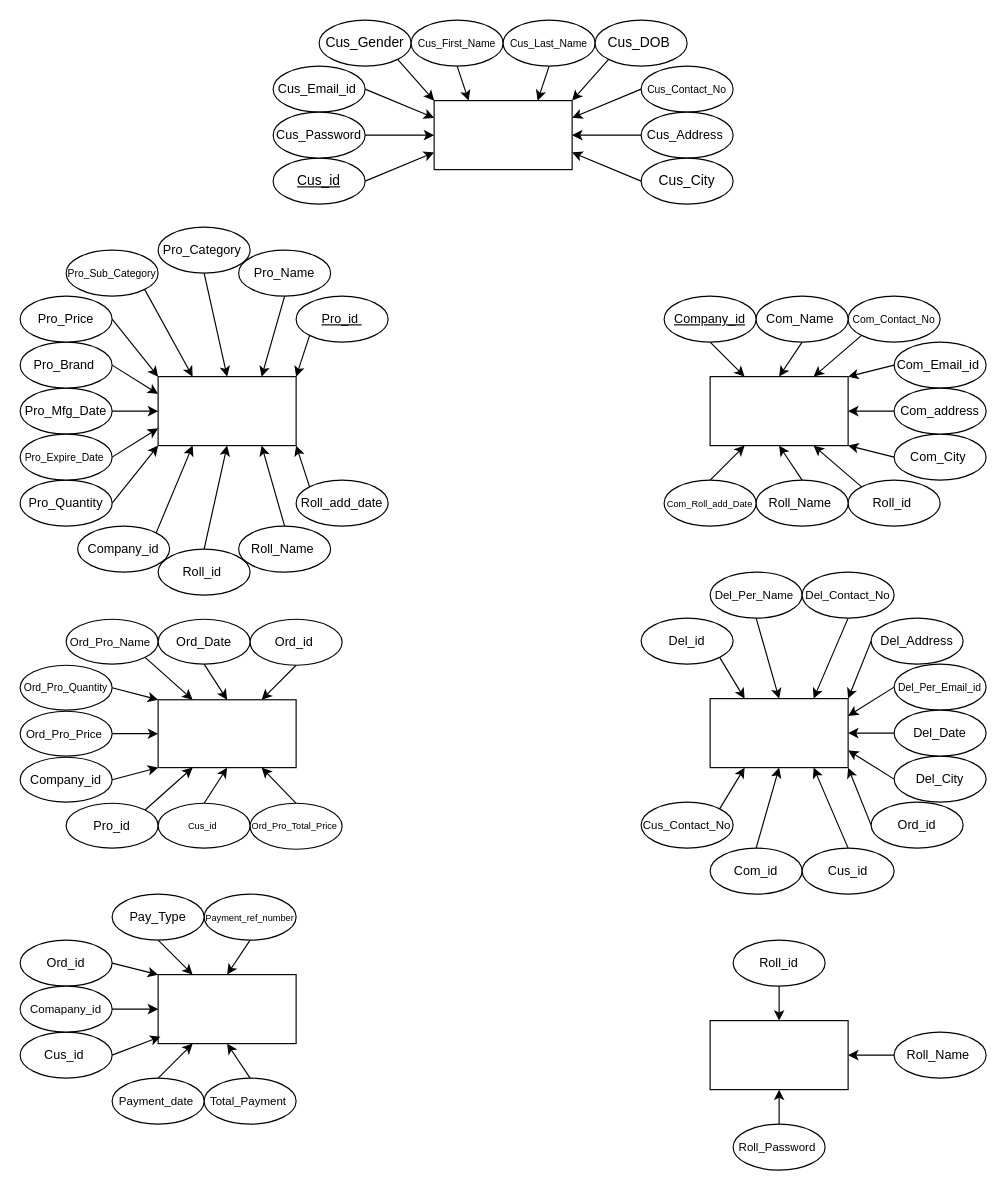
This 1006x1190 diagram has some shape labels left out. The centre of each missing label's shape, as x and y in pixels:
"Company_Detail" belongs at [778,410].
"Delivery_Detail" belongs at [778,732].
"Order_Detail" belongs at [226,733].
"Payment_Detail" belongs at [226,1008].
"Product_Detail" belongs at [226,410].
"Registration_Detail" belongs at [502,134].
"Rolls" belongs at [778,1054].
